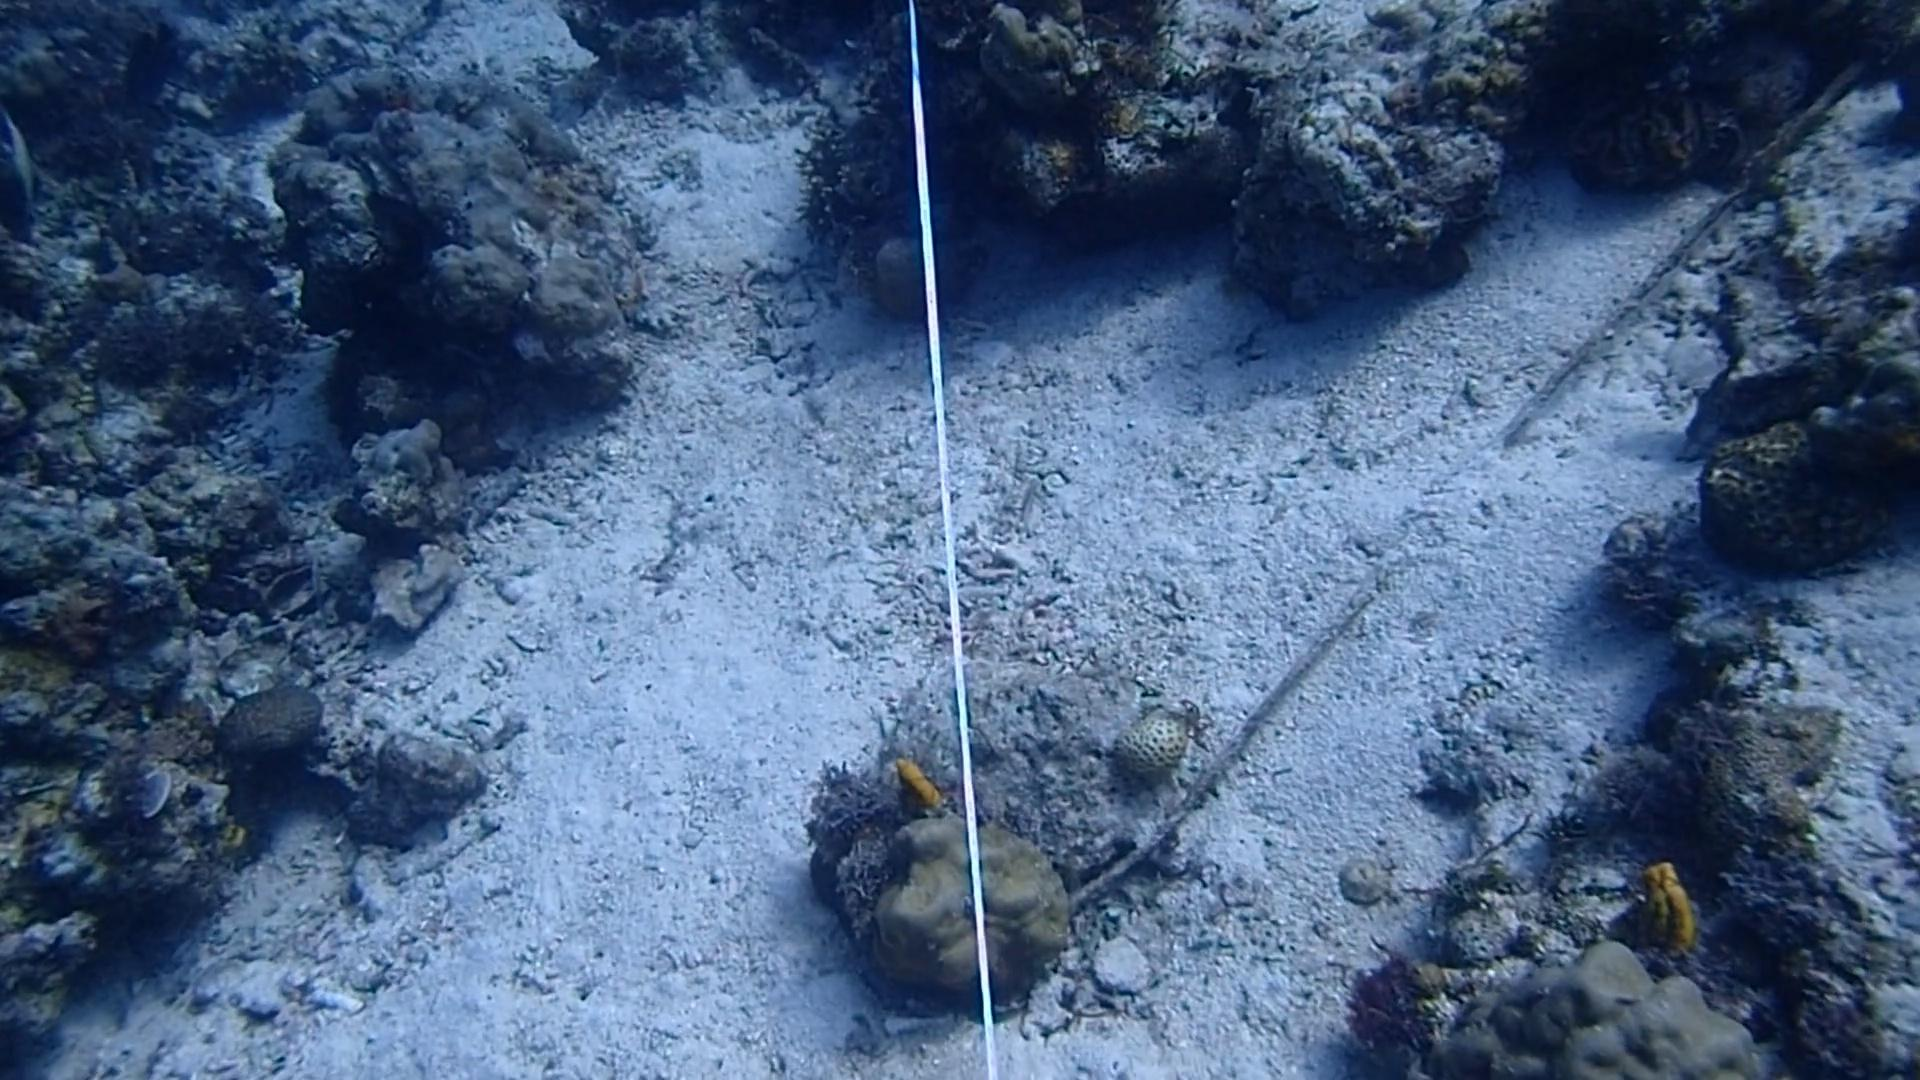Dark Fish: (107, 22, 187, 124)
